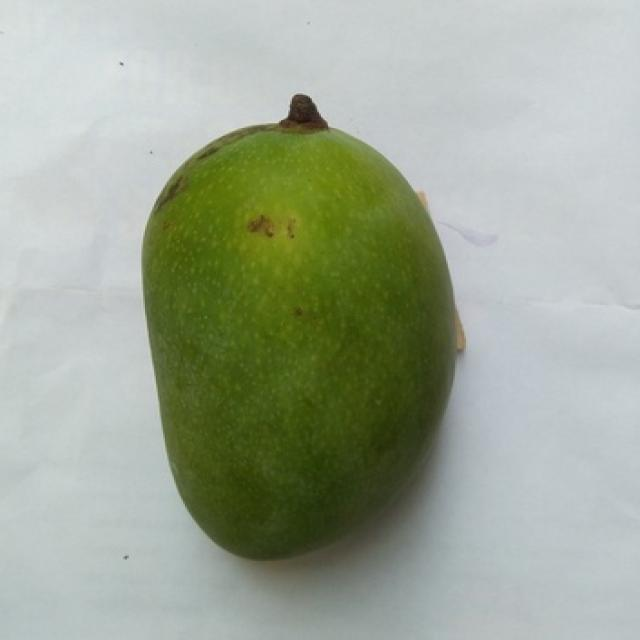Mango: (143, 123, 455, 558)
